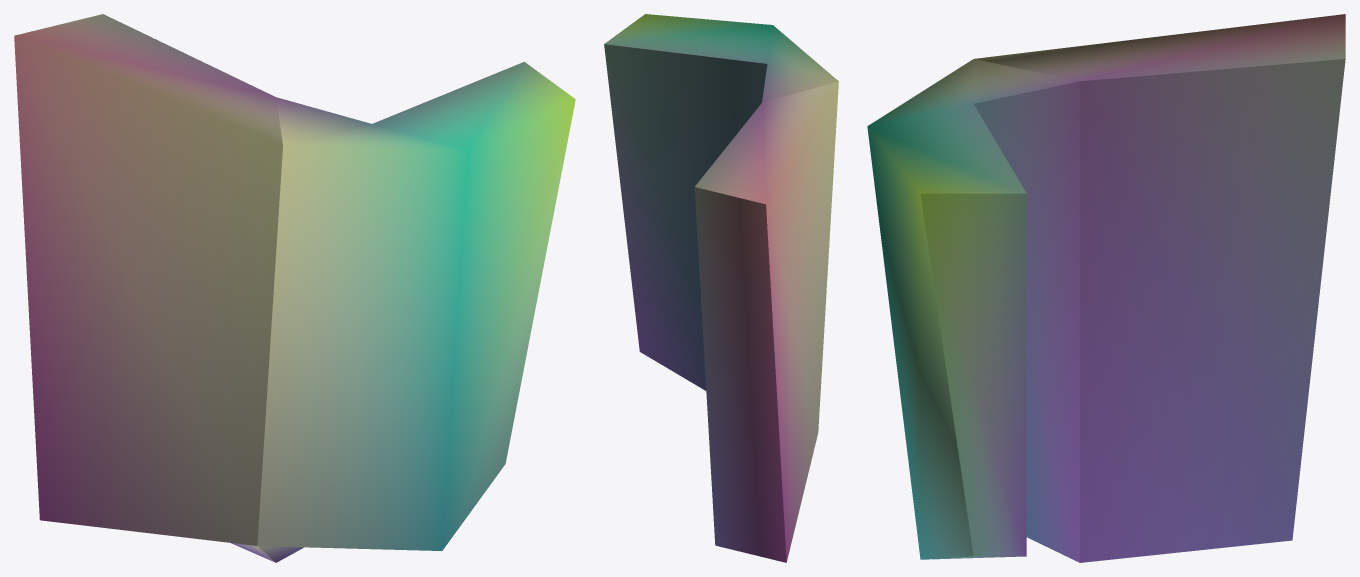
3 views of the same model, side by side, from view 1: azimuth 30°, elevation 25°; view 2: azimuth 150°, elevation 25°; view 3: azimuth 270°, elevation 25° (orthographic). The views are drawn at different scales.
Parts seen in each view (by area): view 1: part; view 2: part; view 3: part.
Part boxes in pixels (x1=…): part: x1=14, y1=14, x2=575, y2=562; part: x1=604, y1=14, x2=838, y2=562; part: x1=867, y1=14, x2=1345, y2=562.
Size of the model in its own units: 8 by 10 by 9.
